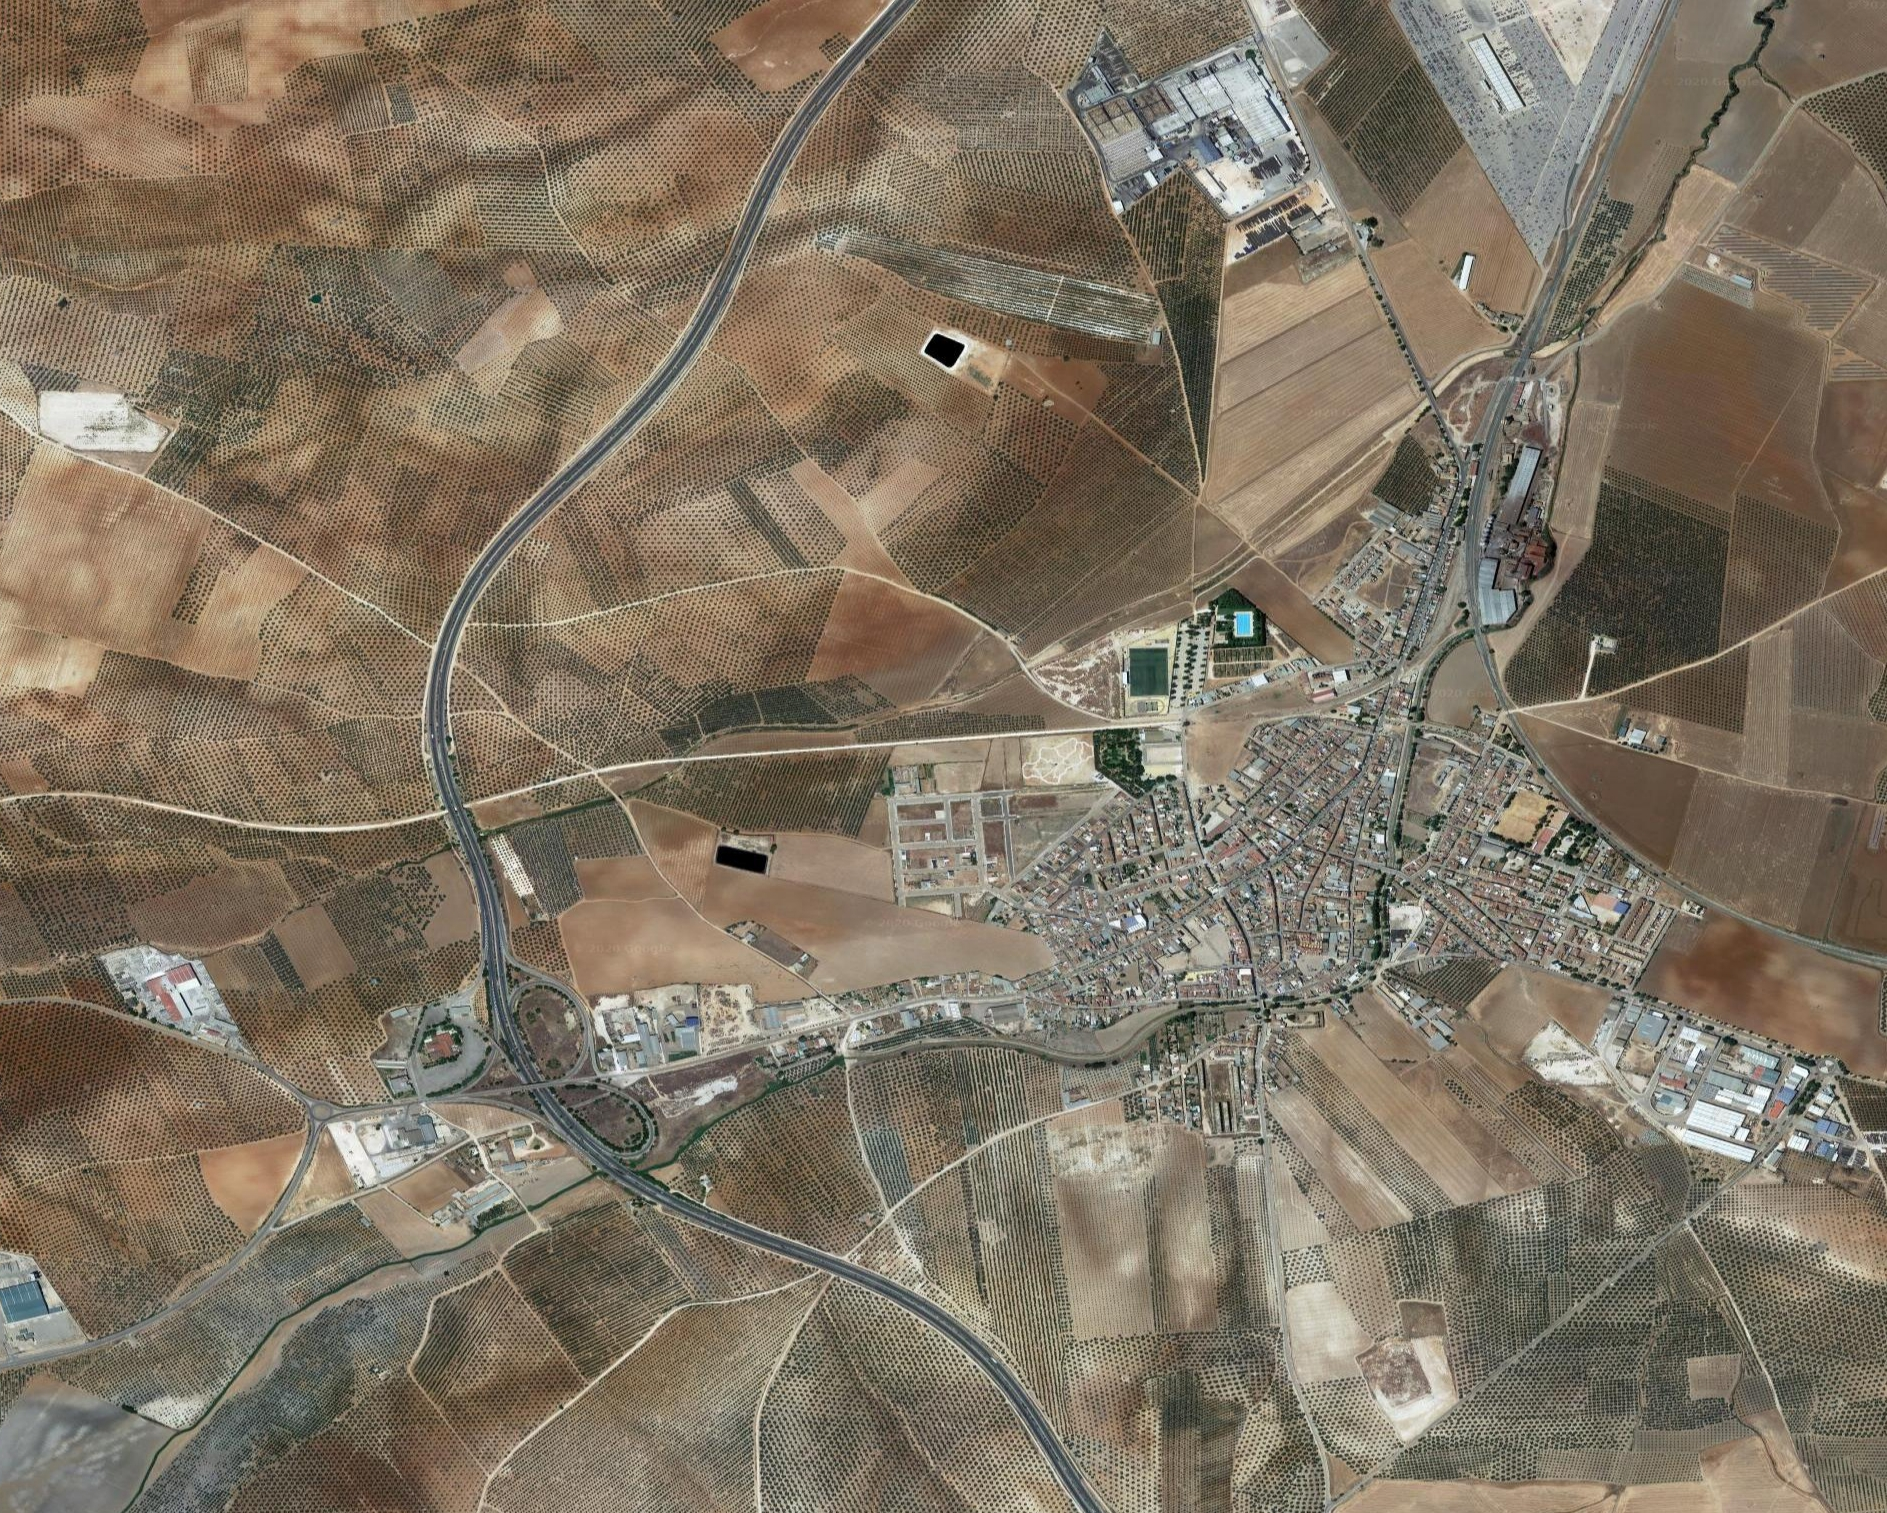industrial: (1604, 997, 1875, 1210), (1099, 45, 1331, 249)
motorway: (321, 398, 676, 828), (611, 2, 967, 428), (411, 824, 764, 1252), (755, 1190, 1096, 1513)
